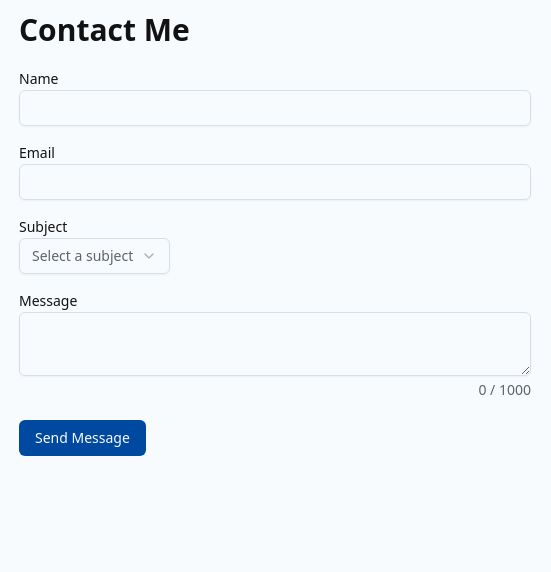
Scenario: Epic 1 Story 2 — Validation, Character Counter, and Error States › Name field validation › shows error for a single-character name on submit
In the field labelled "Name": coordinates (275, 108) [19,90,531,126], type "J"
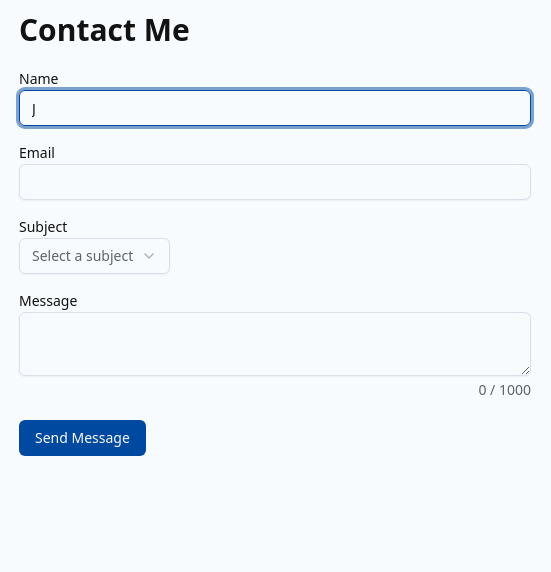
Click the button "Send Message": coordinates (82, 438) [19,420,146,456]
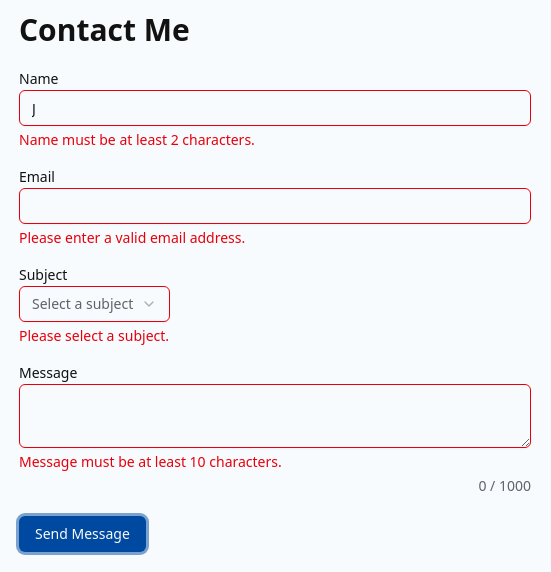
Check: the text "Name must be at least 2 characters." is shown, box [19,130,255,149]
